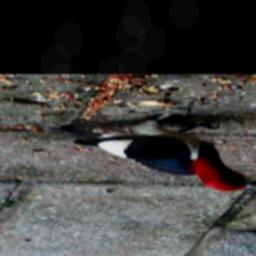Woodpecker: (45, 103, 256, 196)
